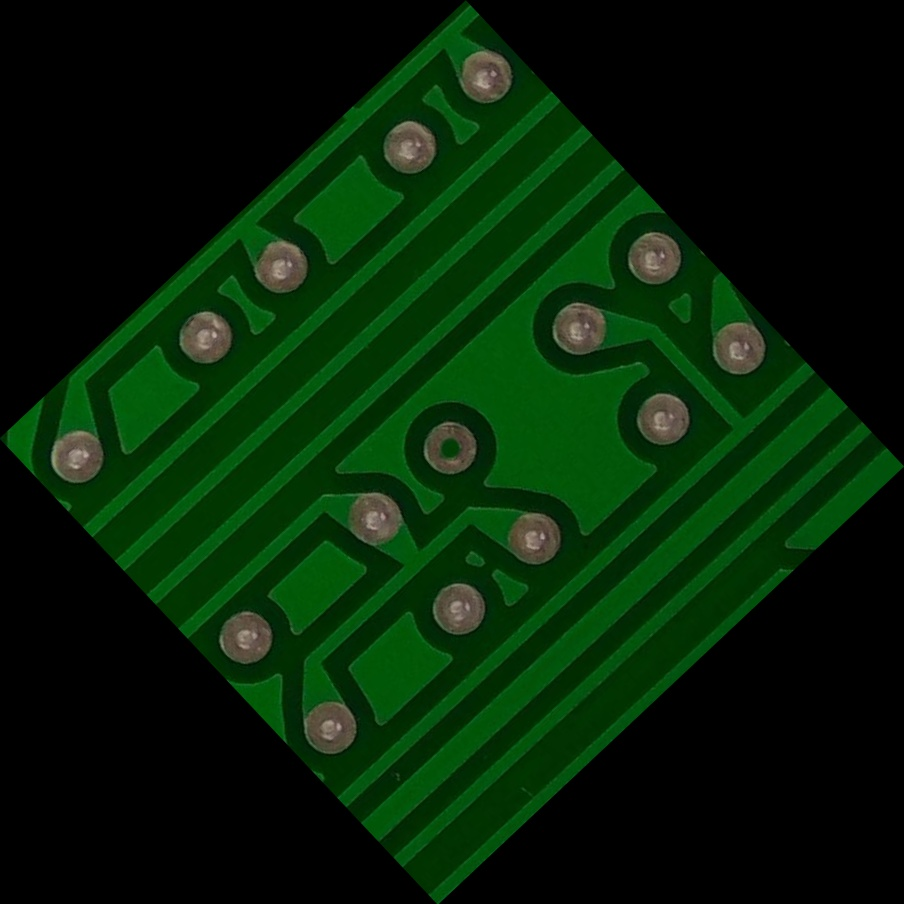missing_hole: (404, 404, 500, 500)
